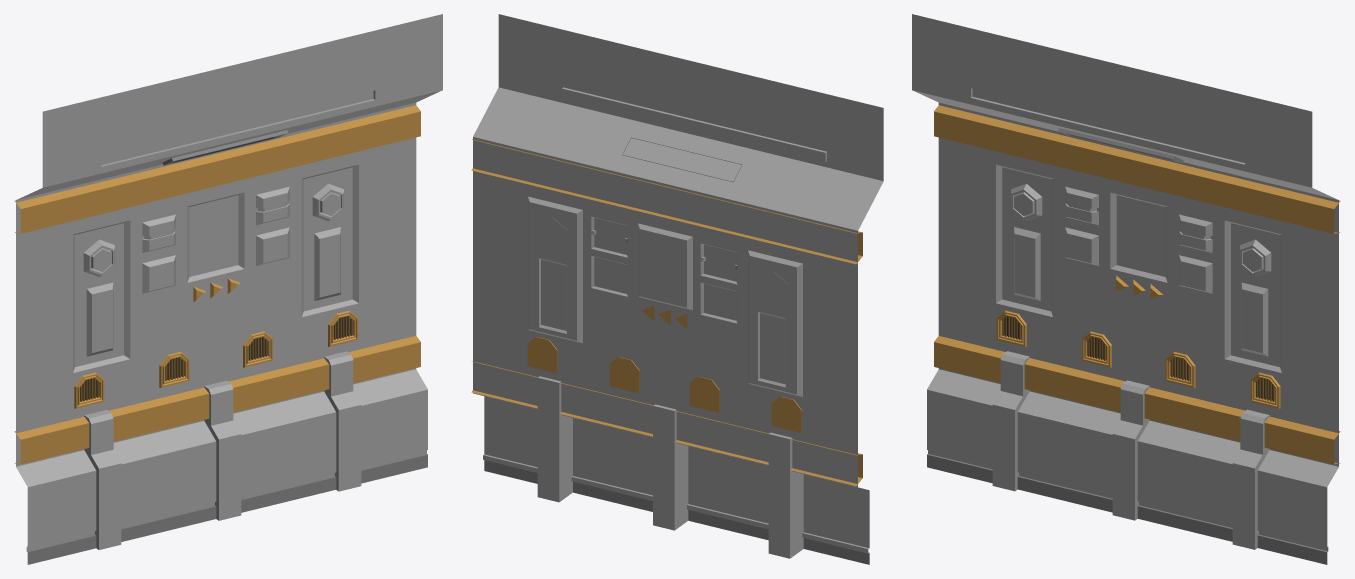
The model's file is Wall_3_GD.glb.
The picture shows the model from 3 angles, left to right: view 1: azimuth 30°, elevation 25°; view 2: azimuth 150°, elevation 25°; view 3: azimuth 330°, elevation 25°; orthographic projection. The views are drawn at different scales.
Parts seen in each view (by area): view 1: Wall_3; view 2: Wall_3; view 3: Wall_3.
Boxes of the visible parts, x1,y1,x2,y2 form: Wall_3: [14, 14, 442, 564]; Wall_3: [471, 14, 883, 564]; Wall_3: [912, 14, 1340, 564].
Size of the model in its own units: 30 by 33.23 by 3.92.
